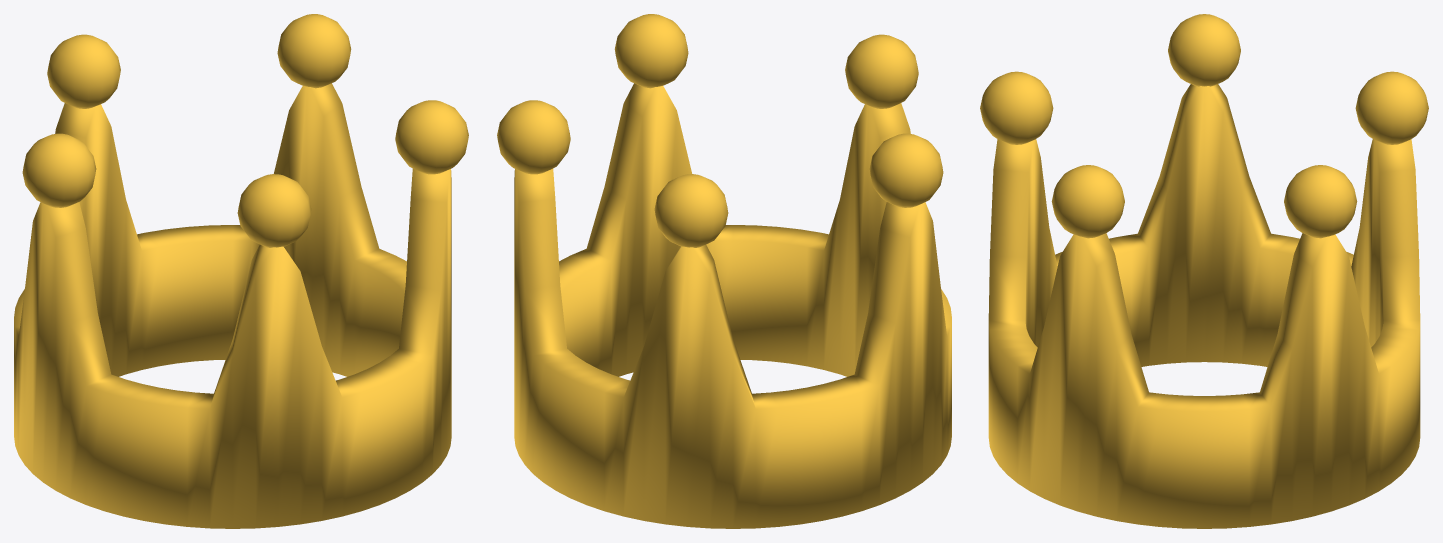
Rendered from KingSlimeCrown.glb.
3 renders of one model, left to right at view 1: azimuth 30°, elevation 25°; view 2: azimuth 150°, elevation 25°; view 3: azimuth 270°, elevation 25°, orthographic.
Parts seen in each view (by area): view 1: KingCrown; view 2: KingCrown; view 3: KingCrown.
Boxes of the visible parts, x1=… form: KingCrown: x1=14, y1=14, x2=468, y2=528; KingCrown: x1=497, y1=14, x2=951, y2=528; KingCrown: x1=980, y1=14, x2=1428, y2=528.
Bounding box in the file's own units: 0.4584 × 0.3788 × 0.4574.
